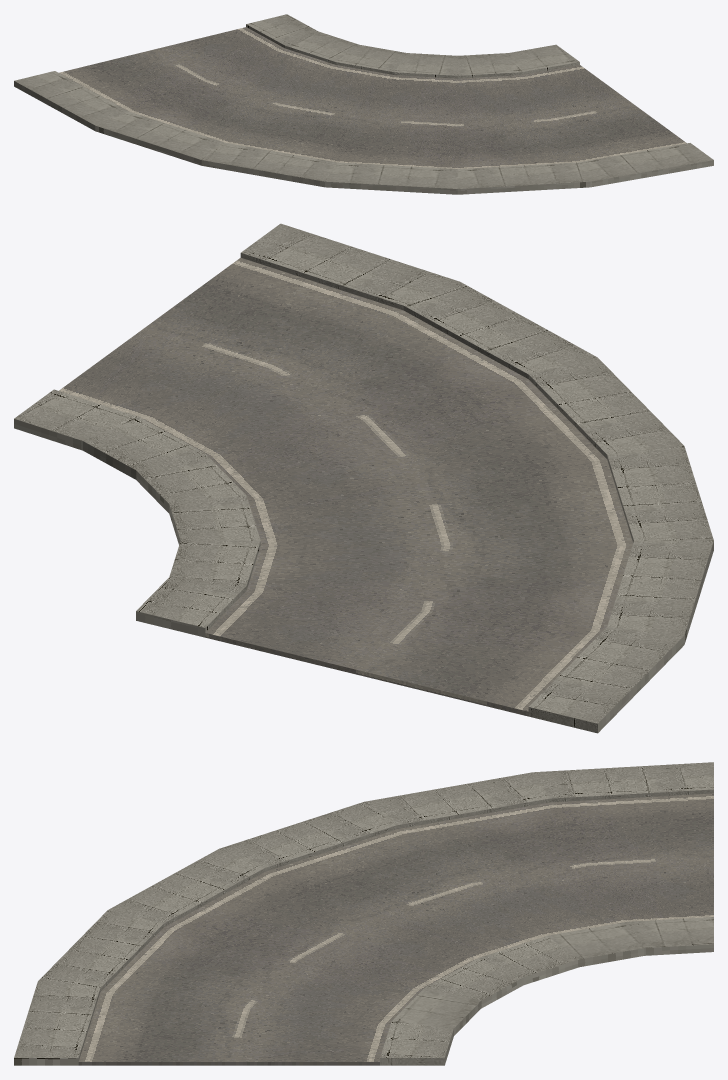
Rendered from road_4_long_corner.glb.
3 renders of one model, top to bottom at view 1: azimuth 30°, elevation 25°; view 2: azimuth 150°, elevation 25°; view 3: azimuth 270°, elevation 25°, orthographic. The views are drawn at different scales.
Parts seen in each view (by area): view 1: road_4_long_corner; view 2: road_4_long_corner; view 3: road_4_long_corner.
Boxes of the visible parts, bbox=[...] form: road_4_long_corner: bbox=[14, 14, 713, 194]; road_4_long_corner: bbox=[14, 223, 713, 733]; road_4_long_corner: bbox=[14, 762, 713, 1065].
Bounding box in the file's own units: 26 × 0.32 × 26.
Materials: 2 (2 with a texture image).
